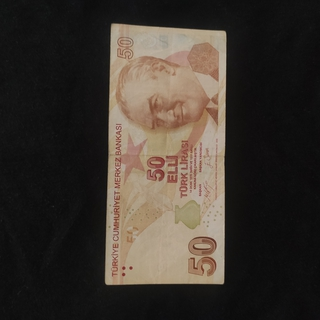50TLFront: (104, 22, 227, 285)
